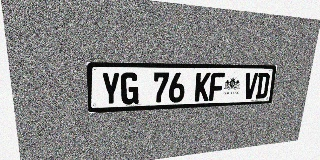6: (168, 72, 185, 103)
7: (152, 72, 169, 103)
D: (255, 73, 270, 99)
F: (209, 73, 225, 101)
G: (121, 72, 139, 105)
K: (194, 73, 211, 102)
V: (243, 73, 258, 99)
Y: (101, 72, 120, 106)
